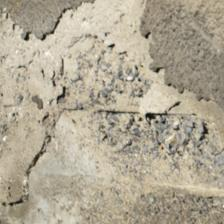Crack: (22, 93, 105, 187), (0, 107, 126, 157), (72, 5, 174, 45), (120, 105, 173, 128)
